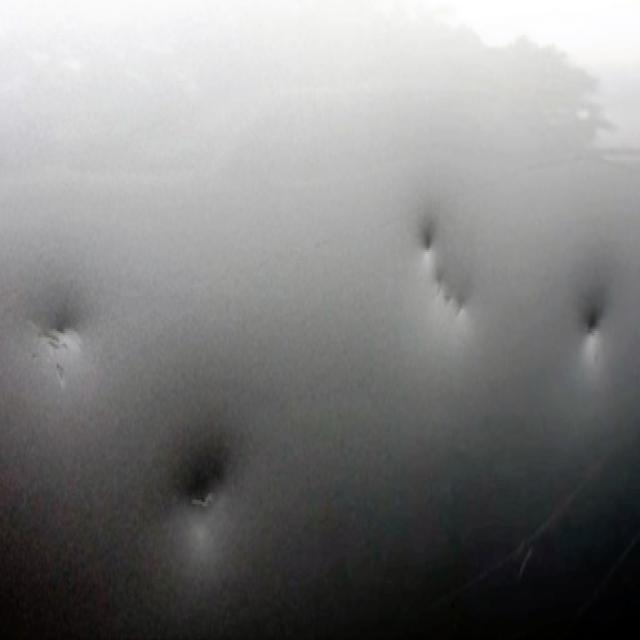dent: (426, 228, 486, 355), (173, 452, 248, 544), (40, 327, 88, 380), (577, 294, 607, 358)
